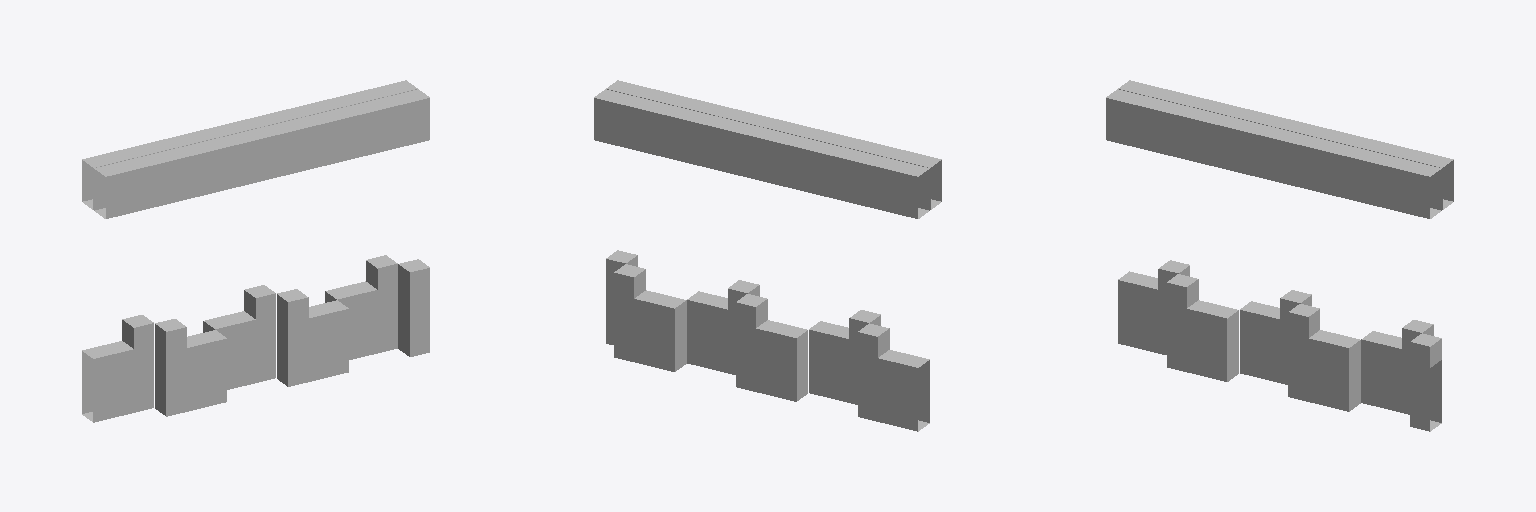
File: Colby9NoMat.obj
3 renders of one model, left to right at view 1: azimuth 30°, elevation 25°; view 2: azimuth 150°, elevation 25°; view 3: azimuth 330°, elevation 25°, orthographic.
Visible parts, largest first — view 1: Plane, Plane.001_Plane.002; view 2: Plane.001_Plane.002, Plane; view 3: Plane, Plane.001_Plane.002.
Boxes of the visible parts, <box> form: Plane: <box>94,89,429,416</box>; Plane.001_Plane.002: <box>82,80,417,422</box>; Plane.001_Plane.002: <box>594,89,929,431</box>; Plane: <box>606,80,941,404</box>; Plane: <box>1106,89,1441,431</box>; Plane.001_Plane.002: <box>1118,80,1453,414</box>.
Size of the model in its own units: 16 by 12 by 2.04.